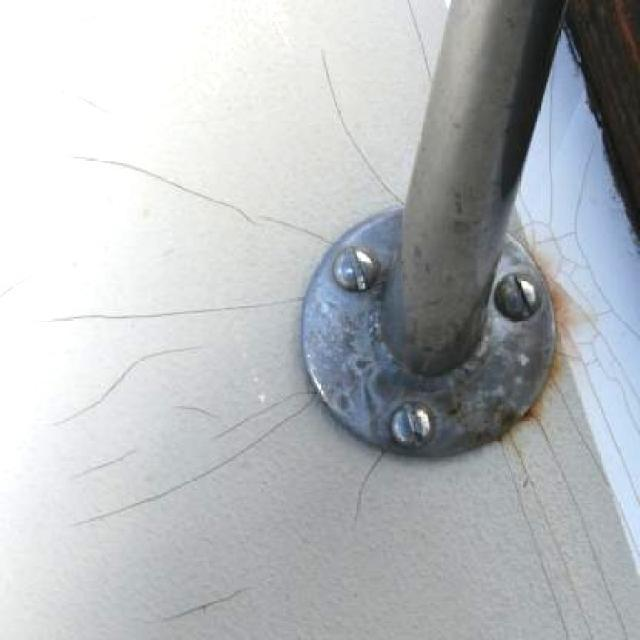crack: (81, 382, 326, 538), (46, 335, 225, 431), (298, 64, 407, 204), (44, 281, 304, 326), (84, 158, 258, 217), (223, 383, 306, 454), (164, 575, 250, 618), (352, 458, 394, 529), (66, 447, 137, 475), (172, 402, 217, 438)
